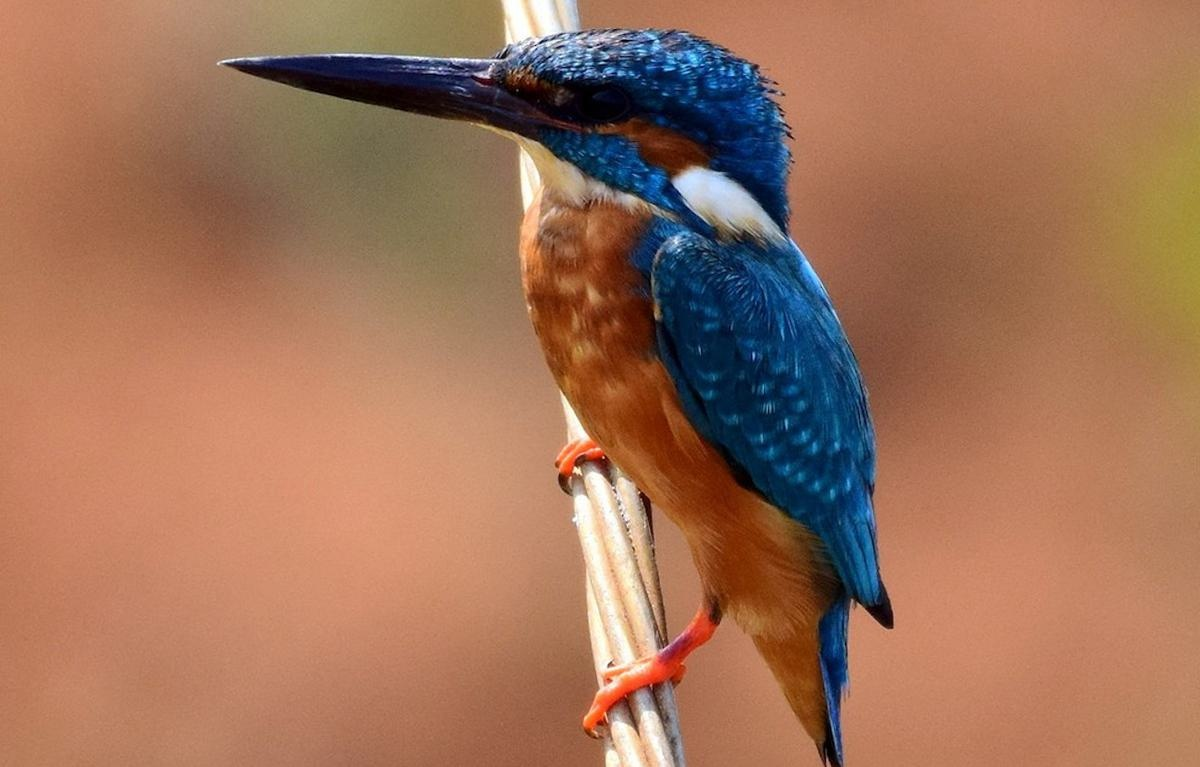kingfisher: (215, 18, 946, 767)
